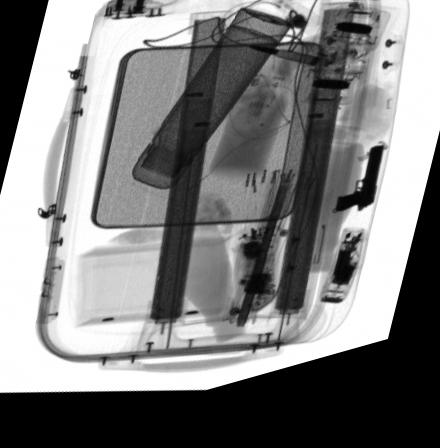Bullet: (245, 60, 317, 85)
Gun: (335, 166, 383, 232)
